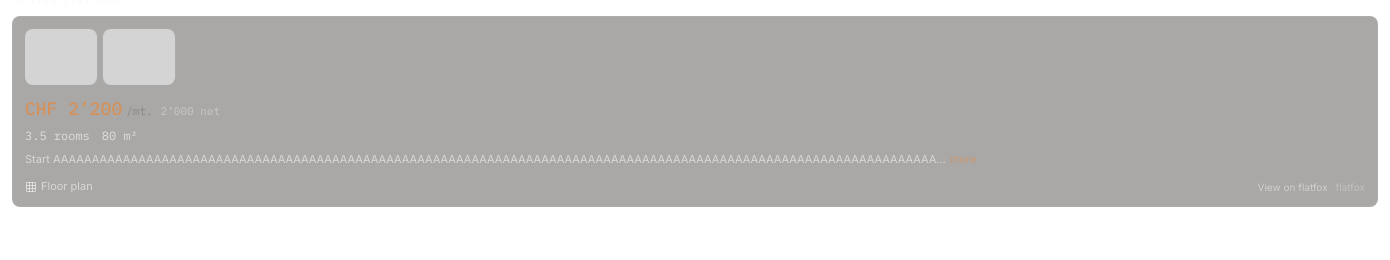
Scenario: ListingCards › expands description on toggle click
Click the button with test id "description-toggle".
click(963, 160)  # box [950,151,976,169]
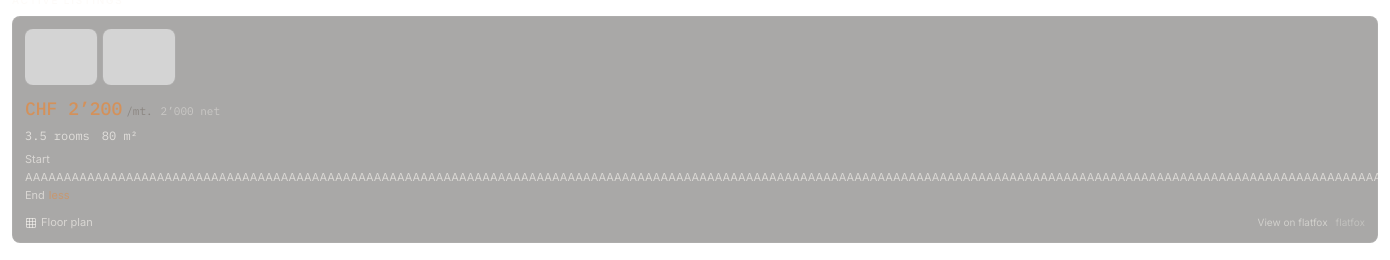
Check: the button "less" is shown, box [49,187,70,205]
